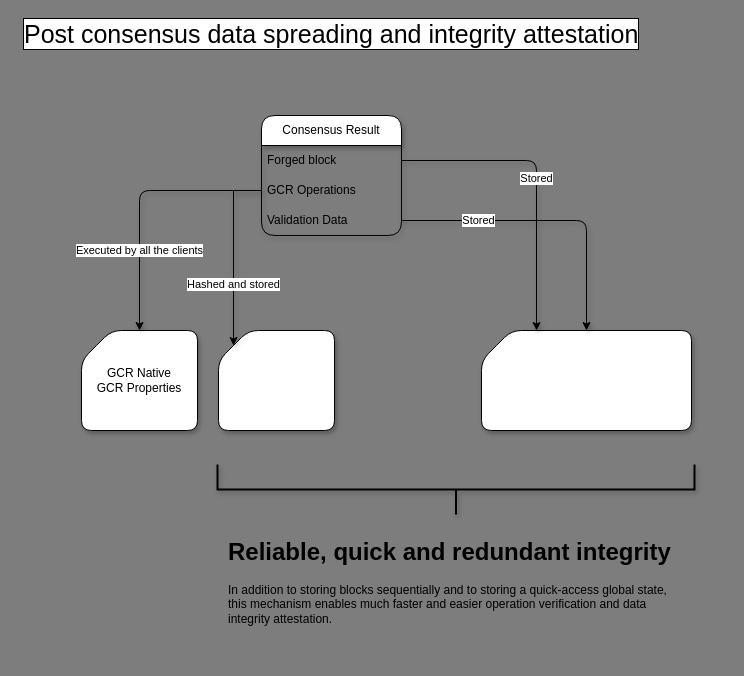
This 744x676 diagram has some shape labels left out. The centre of each missing label's shape, as x and y in pixels:
"Blockchain" goes at (x=587, y=382).
"GCR Hashes" goes at (x=277, y=382).
